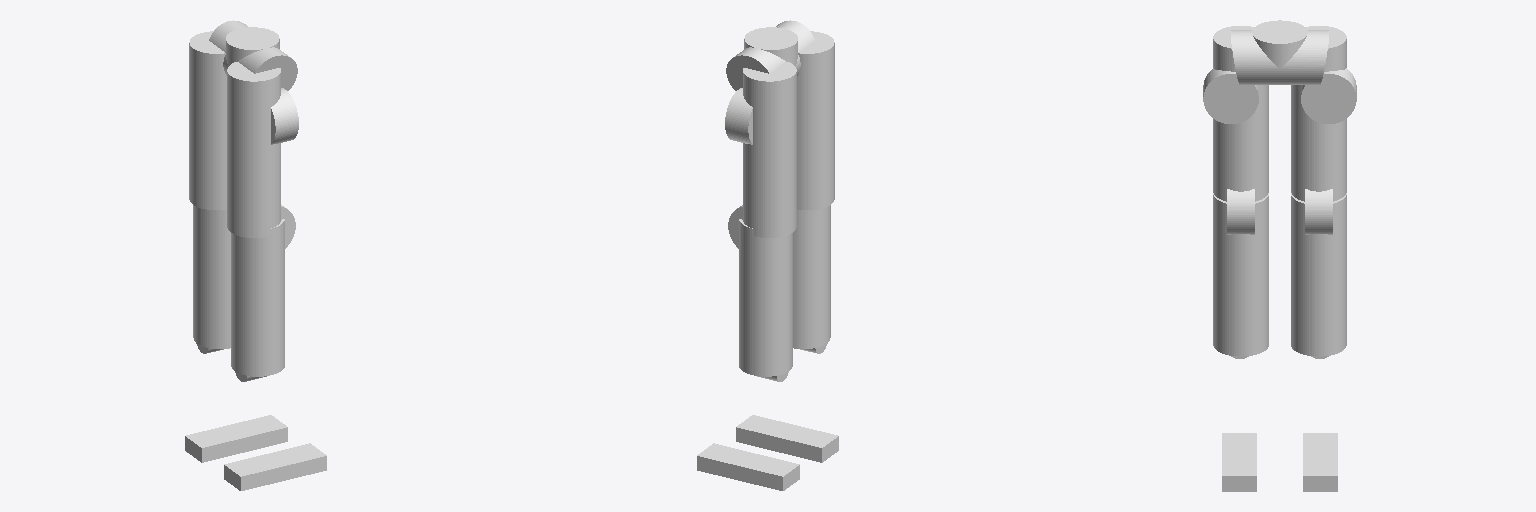
The robot description file, URDF, robot "lite_biped":
<?xml version='1.0' encoding='utf-8'?>
<robot name="lite_biped">
  <!-- GENERATED by robot_assets from Onshape CAD. Do not edit by hand. Regenerate: robot-assets-generate lite_biped -->
  <link name="pelvis">
    <inertial>
      <origin xyz="0.0137049 6.97587e-07 0.0692011" rpy="0 0 0" />
      <mass value="2.1" />
      <inertia ixx="0.00987937" ixy="3.9803e-08" ixz="-0.000115563" iyy="0.00823366" iyz="-5.1965e-08" izz="0.00638151" />
    </inertial>
    <!-- Part pelvis_parts -->
    <visual>
      <origin xyz="0.0137049 6.97587e-07 0.0692011" rpy="0 -0 0" />
      <geometry>
        <mesh filename="../meshes/visual/pelvis_visual.stl" />
      </geometry>
      <material name="pelvis_parts_material">
        <color rgba="0.933333 0.933333 0.933333 1" />
      </material>
    </visual>
  </link>
  <!-- Frame imu (dummy link + fixed joint) -->
  <link name="imu">
    <origin xyz="0 0 0" rpy="0 -0 0" />
    <inertial>
      <origin xyz="0 0 0" rpy="0 0 0" />
      <mass value="1e-9" />
      <inertia ixx="0" ixy="0" ixz="0" iyy="0" iyz="0" izz="0" />
    </inertial>
  </link>
  <joint name="imu_frame" type="fixed">
    <origin xyz="0 0 0.08" rpy="0 -0 0" />
    <parent link="pelvis" />
    <child link="imu" />
    <axis xyz="0 0 0" />
  </joint>
  <!-- Link left_hip_pitch -->
  <link name="left_hip_pitch">
    <inertial>
      <origin xyz="-0.0114774 0.00418673 0.0187959" rpy="0 0 0" />
      <mass value="0.18" />
      <inertia ixx="0.000189549" ixy="1.56103e-05" ixz="-3.45388e-05" iyy="0.000226363" iyz="1.30141e-05" izz="0.000286537" />
    </inertial>
    <!-- Part left_hip_pitch_parts -->
    <visual>
      <origin xyz="-0.0114774 0.00418673 0.0187959" rpy="1.74533 0 -0" />
      <geometry>
        <mesh filename="../meshes/visual/left_hip_pitch_visual.stl" />
      </geometry>
      <material name="left_hip_pitch_parts_material">
        <color rgba="0.933333 0.933333 0.933333 1" />
      </material>
    </visual>
  </link>
  <!-- Link left_hip_roll -->
  <link name="left_hip_roll">
    <inertial>
      <origin xyz="-4.8952e-08 0.0525082 -0.0652484" rpy="0 0 0" />
      <mass value="0.93" />
      <inertia ixx="0.00263146" ixy="-5.134e-09" ixz="3.451e-09" iyy="0.00142387" iyz="-0.000651416" izz="0.00255491" />
    </inertial>
    <!-- Part left_hip_roll_parts -->
    <collision>
      <origin xyz="0 0.181098 -0.0871979" rpy="1.22173 -0 0" />
      <geometry>
        <cylinder length="0.15" radius="0.05" />
      </geometry>
    </collision>
    <visual>
      <origin xyz="-4.8952e-08 0.0525082 -0.0652484" rpy="0 -1.22173 1.5708" />
      <geometry>
        <mesh filename="../meshes/visual/left_hip_roll_visual.stl" />
      </geometry>
      <material name="left_hip_roll_parts_material">
        <color rgba="0.933333 0.933333 0.933333 1" />
      </material>
    </visual>
  </link>
  <!-- Link left_hip_yaw -->
  <link name="left_hip_yaw">
    <inertial>
      <origin xyz="0.00130442 -2.2783e-05 -0.237299" rpy="0 0 0" />
      <mass value="1.54" />
      <inertia ixx="0.00856423" ixy="8.05553e-07" ixz="-0.000337563" iyy="0.00874707" iyz="1.62929e-07" izz="0.00192866" />
    </inertial>
    <!-- Part left_hip_yaw_parts -->
    <visual>
      <origin xyz="0.00130442 -2.2783e-05 -0.237299" rpy="-0 0 -0" />
      <geometry>
        <mesh filename="../meshes/visual/left_hip_yaw_visual.stl" />
      </geometry>
      <material name="left_hip_yaw_parts_material">
        <color rgba="0.933333 0.933333 0.933333 1" />
      </material>
    </visual>
  </link>
  <!-- Link left_knee_pitch -->
  <link name="left_knee_pitch">
    <inertial>
      <origin xyz="-0.00486713 0.0372163 -0.000224083" rpy="0 0 0" />
      <mass value="0.23" />
      <inertia ixx="0.00048246" ixy="3.51526e-05" ixz="-1.20098e-07" iyy="0.000330466" iyz="5.6617e-07" izz="0.00037756" />
    </inertial>
    <!-- Part left_knee_pitch_parts -->
    <collision>
      <origin xyz="-0.015 0.19 0" rpy="1.5708 1.5708 0" />
      <geometry>
        <cylinder length="0.12" radius="0.045" />
      </geometry>
    </collision>
    <visual>
      <origin xyz="-0.00486713 0.0372163 -0.000224083" rpy="1.5708 0 0" />
      <geometry>
        <mesh filename="../meshes/visual/left_knee_pitch_visual.stl" />
      </geometry>
      <material name="left_knee_pitch_parts_material">
        <color rgba="0.933333 0.933333 0.933333 1" />
      </material>
    </visual>
  </link>
  <!-- Link left_ankle_yaw -->
  <link name="left_ankle_yaw">
    <inertial>
      <origin xyz="-0.00304992 0.00150525 -0.18535" rpy="0 0 0" />
      <mass value="1.03" />
      <inertia ixx="0.00548966" ixy="2.18778e-06" ixz="0.000114943" iyy="0.00552969" iyz="-1.87643e-05" izz="0.000829513" />
    </inertial>
    <!-- Part left_ankle_yaw_parts -->
    <visual>
      <origin xyz="-0.00304992 0.00150525 -0.18535" rpy="-0 0 -0" />
      <geometry>
        <mesh filename="../meshes/visual/left_ankle_yaw_visual.stl" />
      </geometry>
      <material name="left_ankle_yaw_parts_material">
        <color rgba="0.933333 0.933333 0.933333 1" />
      </material>
    </visual>
  </link>
  <!-- Link left_ankle_pitch -->
  <link name="left_ankle_pitch">
    <inertial>
      <origin xyz="-0.00384209 0.0297371 3.1356e-08" rpy="0 0 0" />
      <mass value="0.34" />
      <inertia ixx="0.000180143" ixy="-3.10163e-05" ixz="-7.8e-11" iyy="0.00014325" iyz="2.66e-10" izz="0.000245142" />
    </inertial>
    <!-- Part left_ankle_pitch_parts -->
    <visual>
      <origin xyz="-0.00384209 0.0297371 3.1356e-08" rpy="1.5708 -0 -0" />
      <geometry>
        <mesh filename="../meshes/visual/left_ankle_pitch_visual.stl" />
      </geometry>
      <material name="left_ankle_pitch_parts_material">
        <color rgba="0.933333 0.933333 0.933333 1" />
      </material>
    </visual>
  </link>
  <!-- Link left_foot -->
  <link name="left_foot">
    <inertial>
      <origin xyz="-0.00237479 0.023215 0.0359752" rpy="0 0 0" />
      <mass value="0.44" />
      <inertia ixx="0.00151668" ixy="1.08029e-05" ixz="-4.76424e-05" iyy="0.00139101" iyz="-0.00016041" izz="0.000479544" />
    </inertial>
    <!-- Part left_foot_parts -->
    <collision>
      <origin xyz="-0.0046 0.057 -0.05998" rpy="1.5708 0 0" />
      <geometry>
        <sphere radius="0.008" />
      </geometry>
    </collision>
    <collision>
      <origin xyz="-0.03941 0.057 -0.0259" rpy="1.5708 0 0" />
      <geometry>
        <sphere radius="0.008" />
      </geometry>
    </collision>
    <collision>
      <origin xyz="0.02804 0.057 -0.02442" rpy="1.5708 0 0" />
      <geometry>
        <sphere radius="0.008" />
      </geometry>
    </collision>
    <collision>
      <origin xyz="-0.04209 0.057 0.02764" rpy="1.5708 0 0" />
      <geometry>
        <sphere radius="0.008" />
      </geometry>
    </collision>
    <collision>
      <origin xyz="0.03476 0.057 0.02877" rpy="1.5708 0 0" />
      <geometry>
        <sphere radius="0.008" />
      </geometry>
    </collision>
    <collision>
      <origin xyz="-0.04432 0.057 0.0812" rpy="1.5708 0 0" />
      <geometry>
        <sphere radius="0.008" />
      </geometry>
    </collision>
    <collision>
      <origin xyz="0.04148 0.057 0.08196" rpy="1.5708 0 0" />
      <geometry>
        <sphere radius="0.008" />
      </geometry>
    </collision>
    <collision>
      <origin xyz="-0.00047 0.057 0.09173" rpy="1.5708 0 0" />
      <geometry>
        <sphere radius="0.008" />
      </geometry>
    </collision>
    <collision>
      <origin xyz="-0.03438 0.04891 0.12489" rpy="1.5708 0 0" />
      <geometry>
        <sphere radius="0.008" />
      </geometry>
    </collision>
    <collision>
      <origin xyz="0.03932 0.04853 0.12597" rpy="1.5708 0 0" />
      <geometry>
        <sphere radius="0.008" />
      </geometry>
    </collision>
    <collision>
      <origin xyz="0.00465 0.03713 0.14874" rpy="1.5708 0 0" />
      <geometry>
        <sphere radius="0.008" />
      </geometry>
    </collision>
    <visual>
      <origin xyz="-0.00237479 0.023215 0.0359752" rpy="1.5708 -1.5708 0" />
      <geometry>
        <mesh filename="../meshes/visual/left_foot_visual.stl" />
      </geometry>
      <material name="left_foot_parts_material">
        <color rgba="0.933333 0.933333 0.933333 1" />
      </material>
    </visual>
  </link>
  <!-- Joint from left_ankle_pitch to left_foot -->
  <joint name="left_ankle_roll" type="revolute">
    <origin xyz="0 0.04 -0" rpy="0 1.5708 0" />
    <parent link="left_ankle_pitch" />
    <child link="left_foot" />
    <axis xyz="0 0 1" />
    <limit effort="5.5" velocity="100" lower="-0.349066" upper="0.349066" />
    <joint_properties friction="0.1" />
  </joint>
  <!-- Joint from left_ankle_yaw to left_ankle_pitch -->
  <joint name="left_ankle_pitch" type="revolute">
    <origin xyz="0.01 -0 -0.34" rpy="-1.5708 0 -0" />
    <parent link="left_ankle_yaw" />
    <child link="left_ankle_pitch" />
    <axis xyz="0 0 1" />
    <limit effort="14.0" velocity="100" lower="-0.523599" upper="0.872665" />
    <joint_properties friction="0.1" />
  </joint>
  <!-- Joint from left_knee_pitch to left_ankle_yaw -->
  <joint name="left_ankle_yaw" type="revolute">
    <origin xyz="-0.015 0 0" rpy="1.5708 0 -0" />
    <parent link="left_knee_pitch" />
    <child link="left_ankle_yaw" />
    <axis xyz="0 0 1" />
    <limit effort="14.0" velocity="100" lower="-1.5708" upper="1.5708" />
    <joint_properties friction="0.1" />
  </joint>
  <!-- Joint from left_hip_yaw to left_knee_pitch -->
  <joint name="left_knee_pitch" type="revolute">
    <origin xyz="-0.01 0 -0.33" rpy="-1.5708 0 0" />
    <parent link="left_hip_yaw" />
    <child link="left_knee_pitch" />
    <axis xyz="0 0 1" />
    <limit effort="36.0" velocity="100" lower="0" upper="2.35619" />
    <joint_properties friction="0.1" />
  </joint>
  <!-- Joint from left_hip_roll to left_hip_yaw -->
  <joint name="left_hip_yaw" type="revolute">
    <origin xyz="0 -0.0068404 -0.0187939" rpy="0 -1.22173 1.5708" />
    <parent link="left_hip_roll" />
    <child link="left_hip_yaw" />
    <axis xyz="0 0 1" />
    <limit effort="17.0" velocity="100" lower="-1.5708" upper="1.5708" />
    <joint_properties friction="0.1" />
  </joint>
  <!-- Joint from left_hip_pitch to left_hip_roll -->
  <joint name="left_hip_roll" type="revolute">
    <origin xyz="-0 0 -0" rpy="1.91986 1.39626 1.5708" />
    <parent link="left_hip_pitch" />
    <child link="left_hip_roll" />
    <axis xyz="0 0 1" />
    <limit effort="36.0" velocity="100" lower="-0.349066" upper="1.5708" />
    <joint_properties friction="0.1" />
  </joint>
  <!-- Joint from pelvis to left_hip_pitch -->
  <joint name="left_hip_pitch" type="revolute">
    <origin xyz="0.02 0.07 0" rpy="-1.74533 0 0" />
    <parent link="pelvis" />
    <child link="left_hip_pitch" />
    <axis xyz="0 0 1" />
    <limit effort="36.0" velocity="100" lower="-2.35619" upper="0.785398" />
    <joint_properties friction="0.1" />
  </joint>
  <!-- Link right_hip_pitch -->
  <link name="right_hip_pitch">
    <inertial>
      <origin xyz="-0.0114771 0.00418737 -0.0187964" rpy="0 0 0" />
      <mass value="0.18" />
      <inertia ixx="0.000189546" ixy="1.56176e-05" ixz="3.45408e-05" iyy="0.00022637" iyz="-1.30122e-05" izz="0.000286535" />
    </inertial>
    <!-- Part right_hip_pitch_parts -->
    <visual>
      <origin xyz="-0.0114771 0.00418737 -0.0187964" rpy="1.39626 0 -0" />
      <geometry>
        <mesh filename="../meshes/visual/right_hip_pitch_visual.stl" />
      </geometry>
      <material name="right_hip_pitch_parts_material">
        <color rgba="0.933333 0.933333 0.933333 1" />
      </material>
    </visual>
  </link>
  <!-- Link right_hip_roll -->
  <link name="right_hip_roll">
    <inertial>
      <origin xyz="2.6715e-08 0.0525085 -0.0652483" rpy="0 0 0" />
      <mass value="0.93" />
      <inertia ixx="0.00263147" ixy="2.71e-10" ixz="6.079e-09" iyy="0.00142387" iyz="-0.000651423" izz="0.00255493" />
    </inertial>
    <!-- Part right_hip_roll_parts -->
    <collision>
      <origin xyz="1.40064e-07 0.181098 -0.0871974" rpy="1.22173 0 -0" />
      <geometry>
        <cylinder length="0.15" radius="0.05" />
      </geometry>
    </collision>
    <visual>
      <origin xyz="2.6715e-08 0.0525085 -0.0652483" rpy="0 -1.22173 1.5708" />
      <geometry>
        <mesh filename="../meshes/visual/right_hip_roll_visual.stl" />
      </geometry>
      <material name="right_hip_roll_parts_material">
        <color rgba="0.933333 0.933333 0.933333 1" />
      </material>
    </visual>
  </link>
  <!-- Link right_hip_yaw -->
  <link name="right_hip_yaw">
    <inertial>
      <origin xyz="0.00130421 2.35733e-05 -0.237299" rpy="0 0 0" />
      <mass value="1.54" />
      <inertia ixx="0.00856421" ixy="-7.98006e-07" ixz="-0.000337552" iyy="0.00874705" iyz="-2.23692e-07" izz="0.00192867" />
    </inertial>
    <!-- Part right_hip_yaw_parts -->
    <visual>
      <origin xyz="0.00130421 2.35733e-05 -0.237299" rpy="0 0 -0" />
      <geometry>
        <mesh filename="../meshes/visual/right_hip_yaw_visual.stl" />
      </geometry>
      <material name="right_hip_yaw_parts_material">
        <color rgba="0.933333 0.933333 0.933333 1" />
      </material>
    </visual>
  </link>
  <!-- Link right_knee_pitch -->
  <link name="right_knee_pitch">
    <inertial>
      <origin xyz="-0.0048642 0.0372186 0.000224747" rpy="0 0 0" />
      <mass value="0.23" />
      <inertia ixx="0.000482479" ixy="3.5171e-05" ixz="1.13103e-07" iyy="0.000330463" iyz="-5.54061e-07" izz="0.000377561" />
    </inertial>
    <!-- Part right_knee_pitch_parts -->
    <collision>
      <origin xyz="-0.015 0.19 0" rpy="1.5708 1.5708 0" />
      <geometry>
        <cylinder length="0.12" radius="0.045" />
      </geometry>
    </collision>
    <visual>
      <origin xyz="-0.0048642 0.0372186 0.000224747" rpy="1.5708 0 0" />
      <geometry>
        <mesh filename="../meshes/visual/right_knee_pitch_visual.stl" />
      </geometry>
      <material name="right_knee_pitch_parts_material">
        <color rgba="0.933333 0.933333 0.933333 1" />
      </material>
    </visual>
  </link>
  <!-- Link right_ankle_yaw -->
  <link name="right_ankle_yaw">
    <inertial>
      <origin xyz="-0.00304908 -0.0015054 -0.185348" rpy="0 0 0" />
      <mass value="1.03" />
      <inertia ixx="0.00548969" ixy="-2.19478e-06" ixz="0.000114953" iyy="0.00552968" iyz="1.87697e-05" izz="0.00082951" />
    </inertial>
    <!-- Part right_ankle_yaw_parts -->
    <visual>
      <origin xyz="-0.00304908 -0.0015054 -0.185348" rpy="0 0 -0" />
      <geometry>
        <mesh filename="../meshes/visual/right_ankle_yaw_visual.stl" />
      </geometry>
      <material name="right_ankle_yaw_parts_material">
        <color rgba="0.933333 0.933333 0.933333 1" />
      </material>
    </visual>
  </link>
  <!-- Link right_ankle_pitch -->
  <link name="right_ankle_pitch">
    <inertial>
      <origin xyz="-0.00384209 0.0297371 3.1396e-08" rpy="0 0 0" />
      <mass value="0.34" />
      <inertia ixx="0.000180143" ixy="-3.10163e-05" ixz="-7.8e-11" iyy="0.00014325" iyz="2.66e-10" izz="0.000245142" />
    </inertial>
    <!-- Part right_ankle_pitch_parts -->
    <visual>
      <origin xyz="-0.00384209 0.0297371 3.1396e-08" rpy="1.5708 0 0" />
      <geometry>
        <mesh filename="../meshes/visual/right_ankle_pitch_visual.stl" />
      </geometry>
      <material name="right_ankle_pitch_parts_material">
        <color rgba="0.933333 0.933333 0.933333 1" />
      </material>
    </visual>
  </link>
  <!-- Link right_foot -->
  <link name="right_foot">
    <inertial>
      <origin xyz="0.0023746 0.0232151 0.0359757" rpy="0 0 0" />
      <mass value="0.44" />
      <inertia ixx="0.00151669" ixy="-1.0799e-05" ixz="4.76345e-05" iyy="0.00139101" iyz="-0.000160415" izz="0.000479546" />
    </inertial>
    <!-- Part right_foot_parts -->
    <collision>
      <origin xyz="0.0046 0.057 -0.05998" rpy="1.5708 0 0" />
      <geometry>
        <sphere radius="0.008" />
      </geometry>
    </collision>
    <collision>
      <origin xyz="0.03941 0.057 -0.0259" rpy="1.5708 0 0" />
      <geometry>
        <sphere radius="0.008" />
      </geometry>
    </collision>
    <collision>
      <origin xyz="-0.02804 0.057 -0.02442" rpy="1.5708 0 0" />
      <geometry>
        <sphere radius="0.008" />
      </geometry>
    </collision>
    <collision>
      <origin xyz="0.04209 0.057 0.02764" rpy="1.5708 0 0" />
      <geometry>
        <sphere radius="0.008" />
      </geometry>
    </collision>
    <collision>
      <origin xyz="-0.03476 0.057 0.02877" rpy="1.5708 0 0" />
      <geometry>
        <sphere radius="0.008" />
      </geometry>
    </collision>
    <collision>
      <origin xyz="0.04432 0.057 0.0812" rpy="1.5708 0 0" />
      <geometry>
        <sphere radius="0.008" />
      </geometry>
    </collision>
    <collision>
      <origin xyz="-0.04148 0.057 0.08196" rpy="1.5708 0 0" />
      <geometry>
        <sphere radius="0.008" />
      </geometry>
    </collision>
    <collision>
      <origin xyz="0.00047 0.057 0.09173" rpy="1.5708 0 0" />
      <geometry>
        <sphere radius="0.008" />
      </geometry>
    </collision>
    <collision>
      <origin xyz="0.03438 0.04891 0.12489" rpy="1.5708 0 0" />
      <geometry>
        <sphere radius="0.008" />
      </geometry>
    </collision>
    <collision>
      <origin xyz="-0.03932 0.04853 0.12597" rpy="1.5708 0 0" />
      <geometry>
        <sphere radius="0.008" />
      </geometry>
    </collision>
    <collision>
      <origin xyz="-0.00465 0.03713 0.14874" rpy="1.5708 0 0" />
      <geometry>
        <sphere radius="0.008" />
      </geometry>
    </collision>
    <visual>
      <origin xyz="0.0023746 0.0232151 0.0359757" rpy="1.5708 -1.5708 0" />
      <geometry>
        <mesh filename="../meshes/visual/right_foot_visual.stl" />
      </geometry>
      <material name="right_foot_parts_material">
        <color rgba="0.933333 0.933333 0.933333 1" />
      </material>
    </visual>
  </link>
  <!-- Joint from right_ankle_pitch to right_foot -->
  <joint name="right_ankle_roll" type="revolute">
    <origin xyz="0 0.04 0" rpy="0 1.5708 0" />
    <parent link="right_ankle_pitch" />
    <child link="right_foot" />
    <axis xyz="0 0 1" />
    <limit effort="5.5" velocity="100" lower="-0.349066" upper="0.349066" />
    <joint_properties friction="0.1" />
  </joint>
  <!-- Joint from right_ankle_yaw to right_ankle_pitch -->
  <joint name="right_ankle_pitch" type="revolute">
    <origin xyz="0.01 0 -0.34" rpy="-1.5708 -0 -0" />
    <parent link="right_ankle_yaw" />
    <child link="right_ankle_pitch" />
    <axis xyz="0 0 1" />
    <limit effort="14.0" velocity="100" lower="-0.523599" upper="0.872665" />
    <joint_properties friction="0.1" />
  </joint>
  <!-- Joint from right_knee_pitch to right_ankle_yaw -->
  <joint name="right_ankle_yaw" type="revolute">
    <origin xyz="-0.015 0 0" rpy="1.5708 -0 -0" />
    <parent link="right_knee_pitch" />
    <child link="right_ankle_yaw" />
    <axis xyz="0 0 1" />
    <limit effort="14.0" velocity="100" lower="-1.5708" upper="1.5708" />
    <joint_properties friction="0.1" />
  </joint>
  <!-- Joint from right_hip_yaw to right_knee_pitch -->
  <joint name="right_knee_pitch" type="revolute">
    <origin xyz="-0.01 -0 -0.33" rpy="-1.5708 0 0" />
    <parent link="right_hip_yaw" />
    <child link="right_knee_pitch" />
    <axis xyz="0 0 1" />
    <limit effort="36.0" velocity="100" lower="0" upper="2.35619" />
    <joint_properties friction="0.1" />
  </joint>
  <!-- Joint from right_hip_roll to right_hip_yaw -->
  <joint name="right_hip_yaw" type="revolute">
    <origin xyz="-0 -0.0068404 -0.0187939" rpy="-0 -1.22173 1.5708" />
    <parent link="right_hip_roll" />
    <child link="right_hip_yaw" />
    <axis xyz="0 0 1" />
    <limit effort="17.0" velocity="100" lower="-1.5708" upper="1.5708" />
    <joint_properties friction="0.1" />
  </joint>
  <!-- Joint from right_hip_pitch to right_hip_roll -->
  <joint name="right_hip_roll" type="revolute">
    <origin xyz="0 -0 -0" rpy="-1.22173 1.39626 -1.5708" />
    <parent link="right_hip_pitch" />
    <child link="right_hip_roll" />
    <axis xyz="0 0 1" />
    <limit effort="36.0" velocity="100" lower="-1.5708" upper="0.349066" />
    <joint_properties friction="0.1" />
  </joint>
  <!-- Joint from pelvis to right_hip_pitch -->
  <joint name="right_hip_pitch" type="revolute">
    <origin xyz="0.02 -0.07 -0" rpy="-1.39626 -0 0" />
    <parent link="pelvis" />
    <child link="right_hip_pitch" />
    <axis xyz="0 0 1" />
    <limit effort="36.0" velocity="100" lower="-2.35619" upper="0.785398" />
    <joint_properties friction="0.1" />
  </joint>
</robot>

--- What the picture shows (computed from the rendered views, not written in the file) ---
Views: 3 orthographic renders of the robot side by side, from view 1: azimuth 30°, elevation 25°; view 2: azimuth 150°, elevation 25°; view 3: azimuth 270°, elevation 25°.
Model lite_biped with 16 links and 15 joints (14 revolute, 1 fixed), rooted at pelvis, posed every joint at zero.
Links seen in each view (by area): view 1: right_hip_roll, right_knee_pitch, left_hip_roll, left_knee_pitch, pelvis, left_foot, right_foot, right_hip_pitch; view 2: left_hip_roll, left_knee_pitch, right_hip_roll, right_knee_pitch, pelvis, left_foot, right_foot, left_hip_pitch; view 3: left_knee_pitch, right_knee_pitch, pelvis, left_hip_roll, right_hip_roll, left_hip_pitch, right_hip_pitch, left_foot, right_foot, left_hip_yaw, right_hip_yaw.
Boxes of the visible links, x1,y1,x2,y2 form: right_hip_roll: (227, 62, 280, 237); right_knee_pitch: (231, 219, 284, 376); left_hip_roll: (189, 31, 226, 209); left_knee_pitch: (193, 205, 230, 348); pelvis: (209, 20, 297, 90); left_foot: (185, 415, 287, 462); right_foot: (224, 443, 326, 490); right_hip_pitch: (271, 88, 298, 144); left_hip_roll: (743, 62, 796, 237); left_knee_pitch: (739, 219, 792, 376); right_hip_roll: (797, 31, 834, 209); right_knee_pitch: (793, 205, 830, 348); pelvis: (726, 20, 814, 90); left_foot: (697, 443, 799, 490); right_foot: (736, 415, 838, 462); left_hip_pitch: (725, 88, 752, 144); left_knee_pitch: (1291, 193, 1346, 356); right_knee_pitch: (1213, 193, 1268, 356); pelvis: (1231, 20, 1328, 84); left_hip_roll: (1291, 26, 1346, 201); right_hip_roll: (1213, 26, 1268, 201); left_hip_pitch: (1301, 68, 1356, 123); right_hip_pitch: (1203, 68, 1258, 123); left_foot: (1303, 433, 1337, 491); right_foot: (1222, 433, 1256, 491); left_hip_yaw: (1305, 189, 1332, 234); right_hip_yaw: (1227, 189, 1254, 234).
Bounding box of the posed robot: 0.1868 × 0.2756 × 0.8642 m (x, y, z).
Meshes: 15 distinct files referenced, 13 mesh visuals loaded (13 binary STL); not drawn: 2 (reference not matched to a file when rendering).
